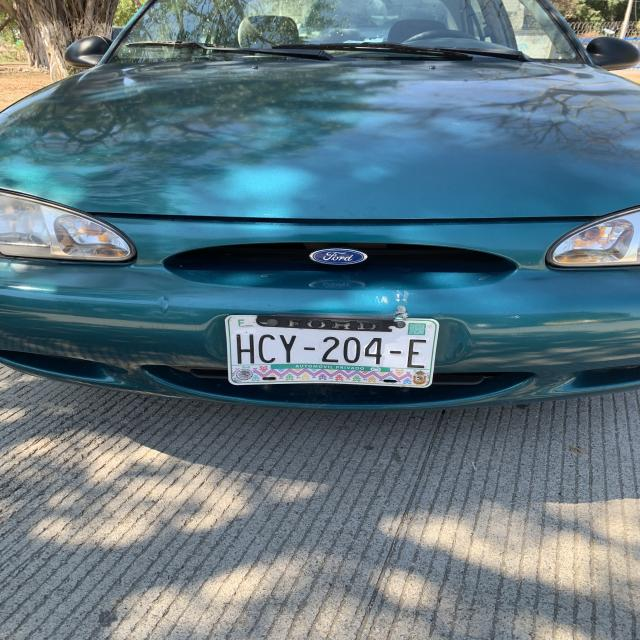placa: (225, 328, 431, 374)
